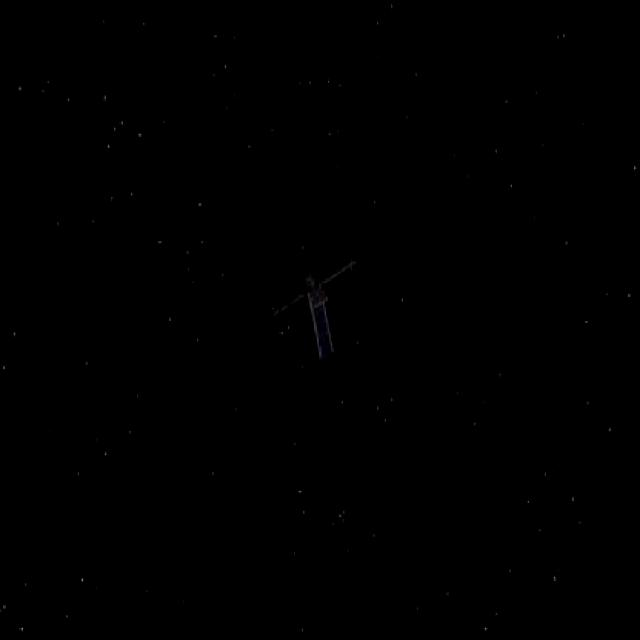satellite: (271, 258, 361, 375)
